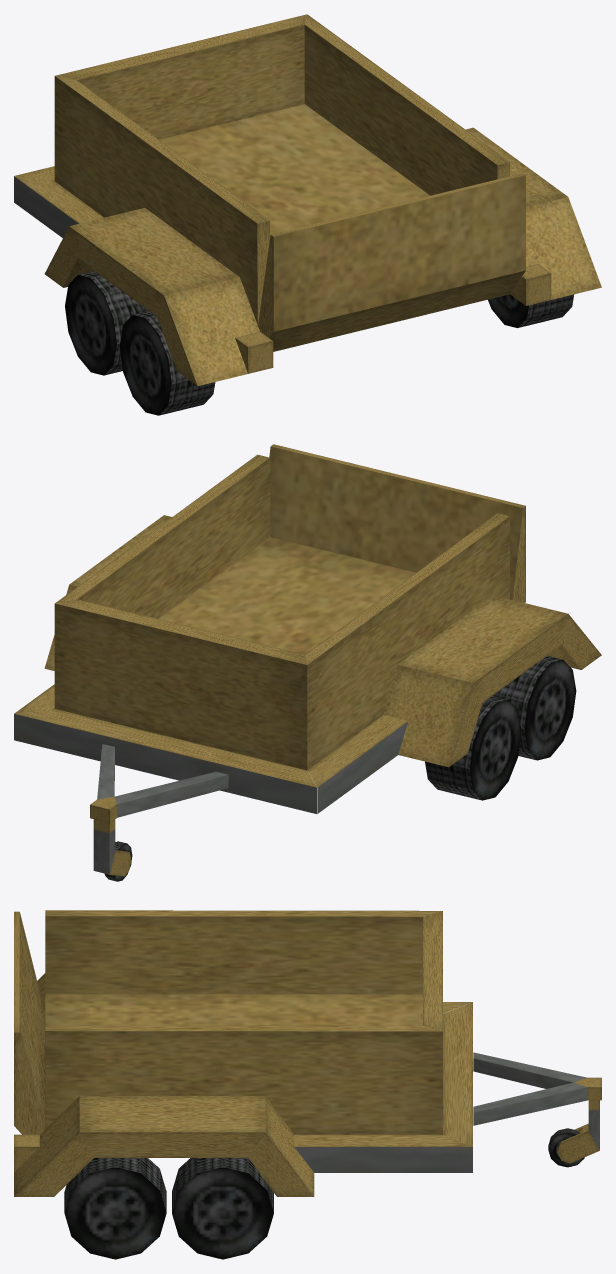
Rendered from TRAILER.glb.
The picture shows the model from 3 angles, top to bottom: view 1: azimuth 30°, elevation 25°; view 2: azimuth 150°, elevation 25°; view 3: azimuth 270°, elevation 25°; orthographic projection. The views are drawn at different scales.
Parts seen in each view (by area): view 1: TRAILER; view 2: TRAILER; view 3: TRAILER.
Boxes of the visible parts, <box> form: TRAILER: <box>14,14,601,415</box>; TRAILER: <box>14,444,601,881</box>; TRAILER: <box>14,910,601,1259</box>.
Size of the model in its own units: 3.08 by 1.45 by 3.96.
Materials: 1 (1 with a texture image).
